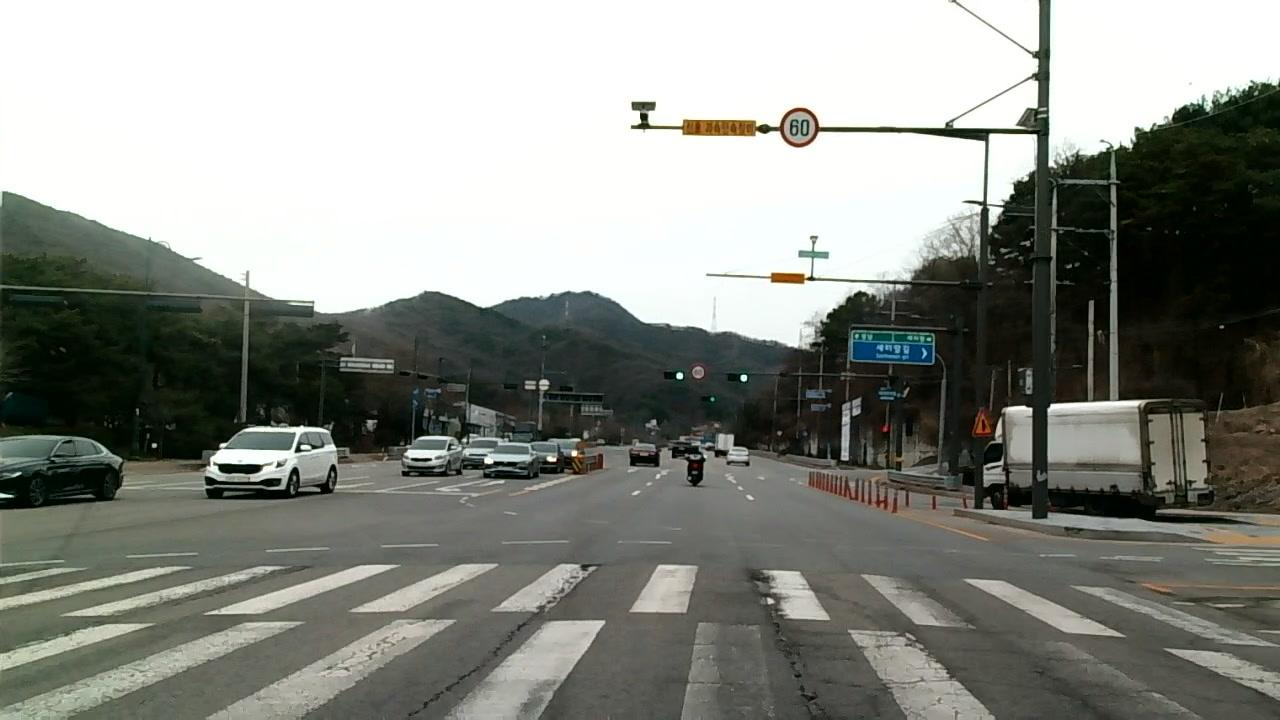banner: (370, 579, 578, 720), (1, 569, 278, 653), (767, 612, 822, 718), (1183, 590, 1280, 619), (748, 574, 774, 591), (577, 560, 603, 576)
